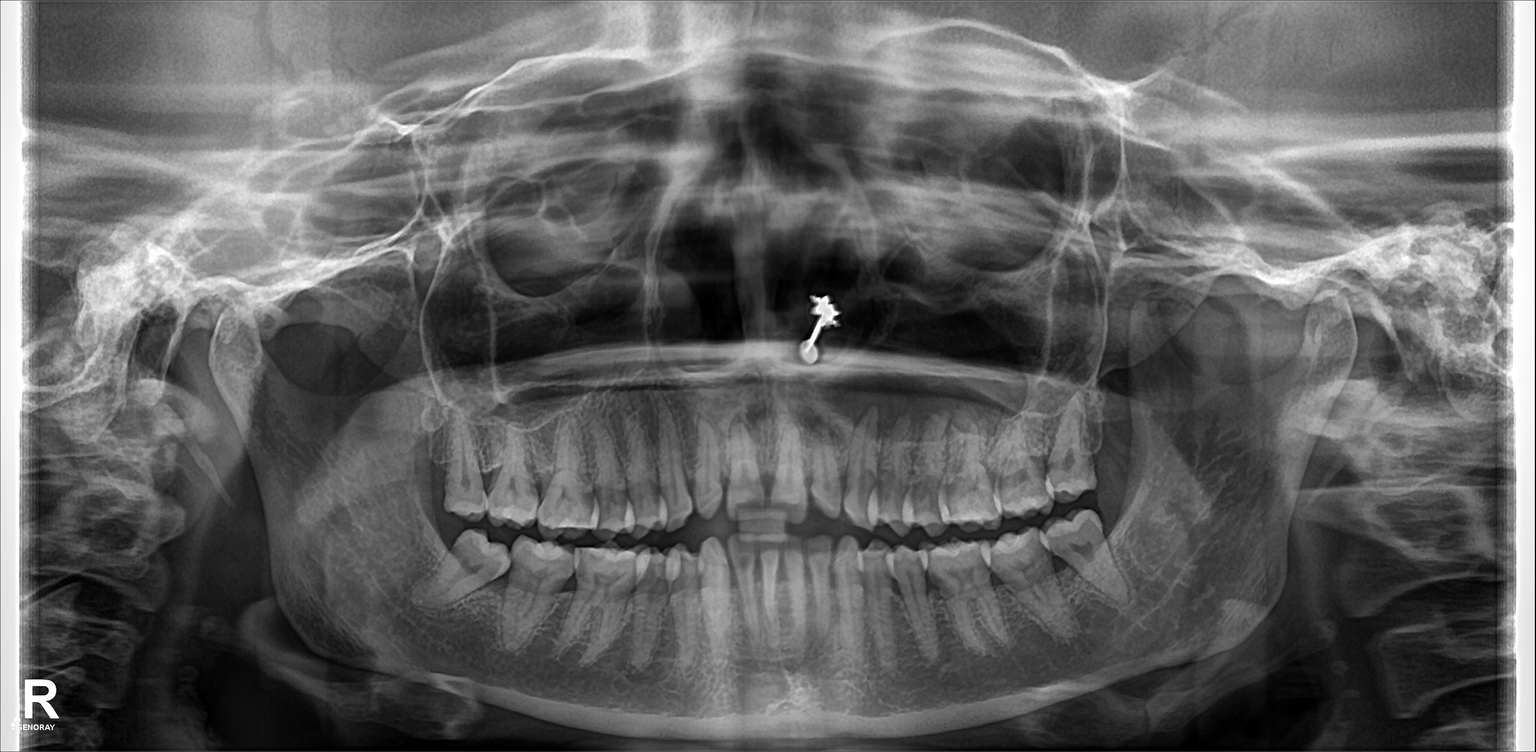Impacted Third Molar: (417, 536, 508, 611)
Missing Tooth: (406, 408, 450, 500), (1095, 382, 1134, 481)
